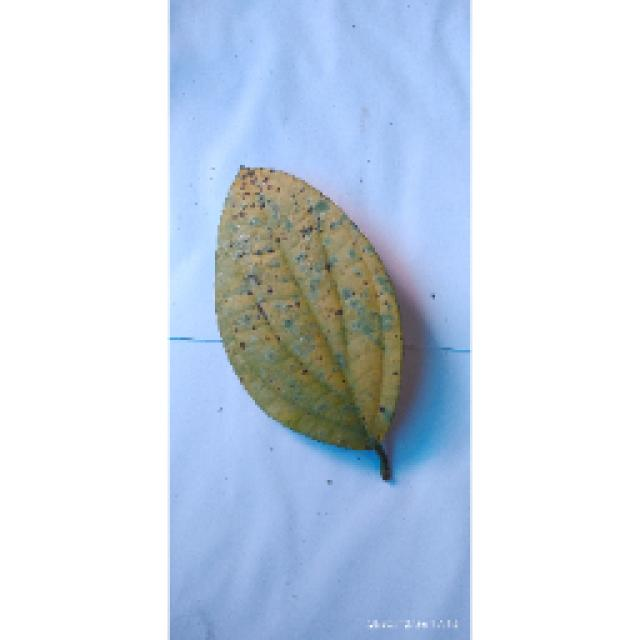slow-decline: (200, 150, 415, 475)
